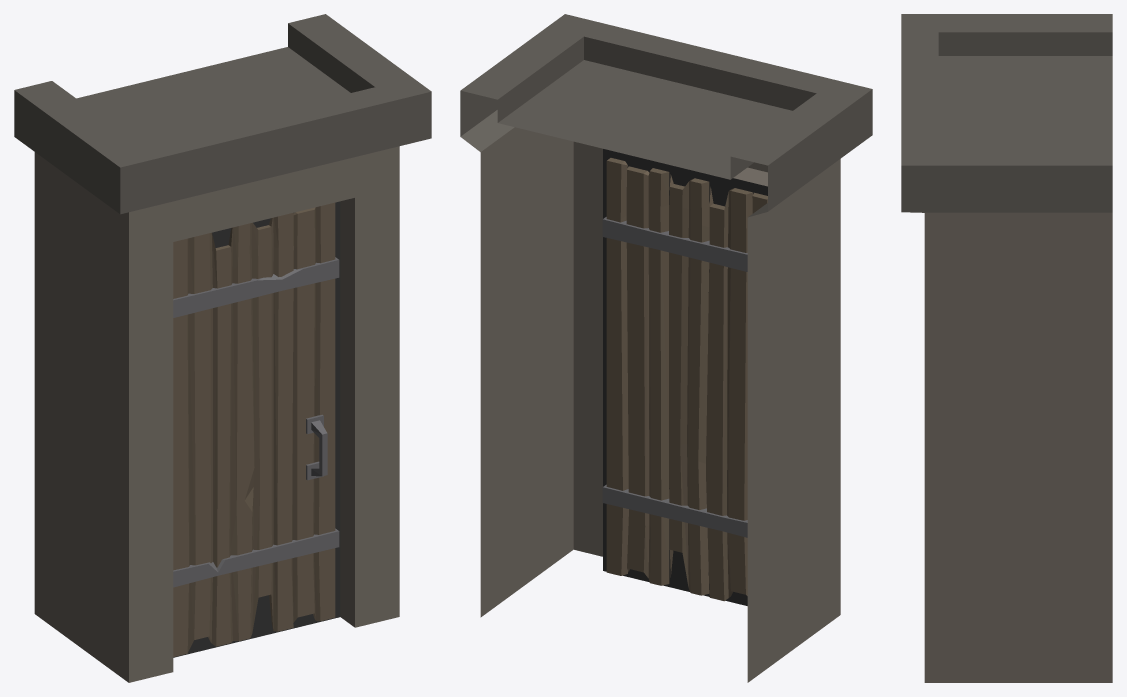
File: SM_Bld_Fort_Door_03.glb
3 views of the same model, side by side, from view 1: azimuth 30°, elevation 25°; view 2: azimuth 150°, elevation 25°; view 3: azimuth 270°, elevation 25° (orthographic).
Visible parts, largest first — view 1: SM_Bld_Fort_Door_03_part00; view 2: SM_Bld_Fort_Door_03_part00; view 3: SM_Bld_Fort_Door_03_part00.
Part boxes in pixels (left/top/right/bottom): SM_Bld_Fort_Door_03_part00: left=14, top=14, right=431, bottom=682; SM_Bld_Fort_Door_03_part00: left=460, top=14, right=872, bottom=682; SM_Bld_Fort_Door_03_part00: left=901, top=14, right=1112, bottom=682.
Size of the model in its own units: 1.48 by 2.4 by 0.8705.
1 material, 1 textured.
